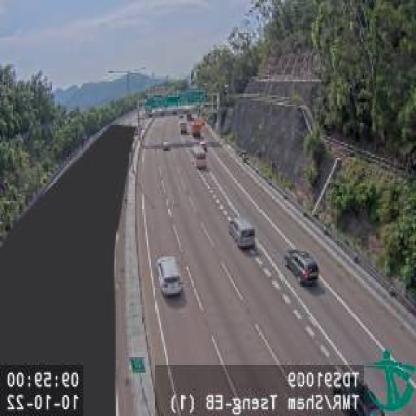Car: (154, 252, 186, 298), (285, 246, 321, 286), (226, 211, 256, 251)
